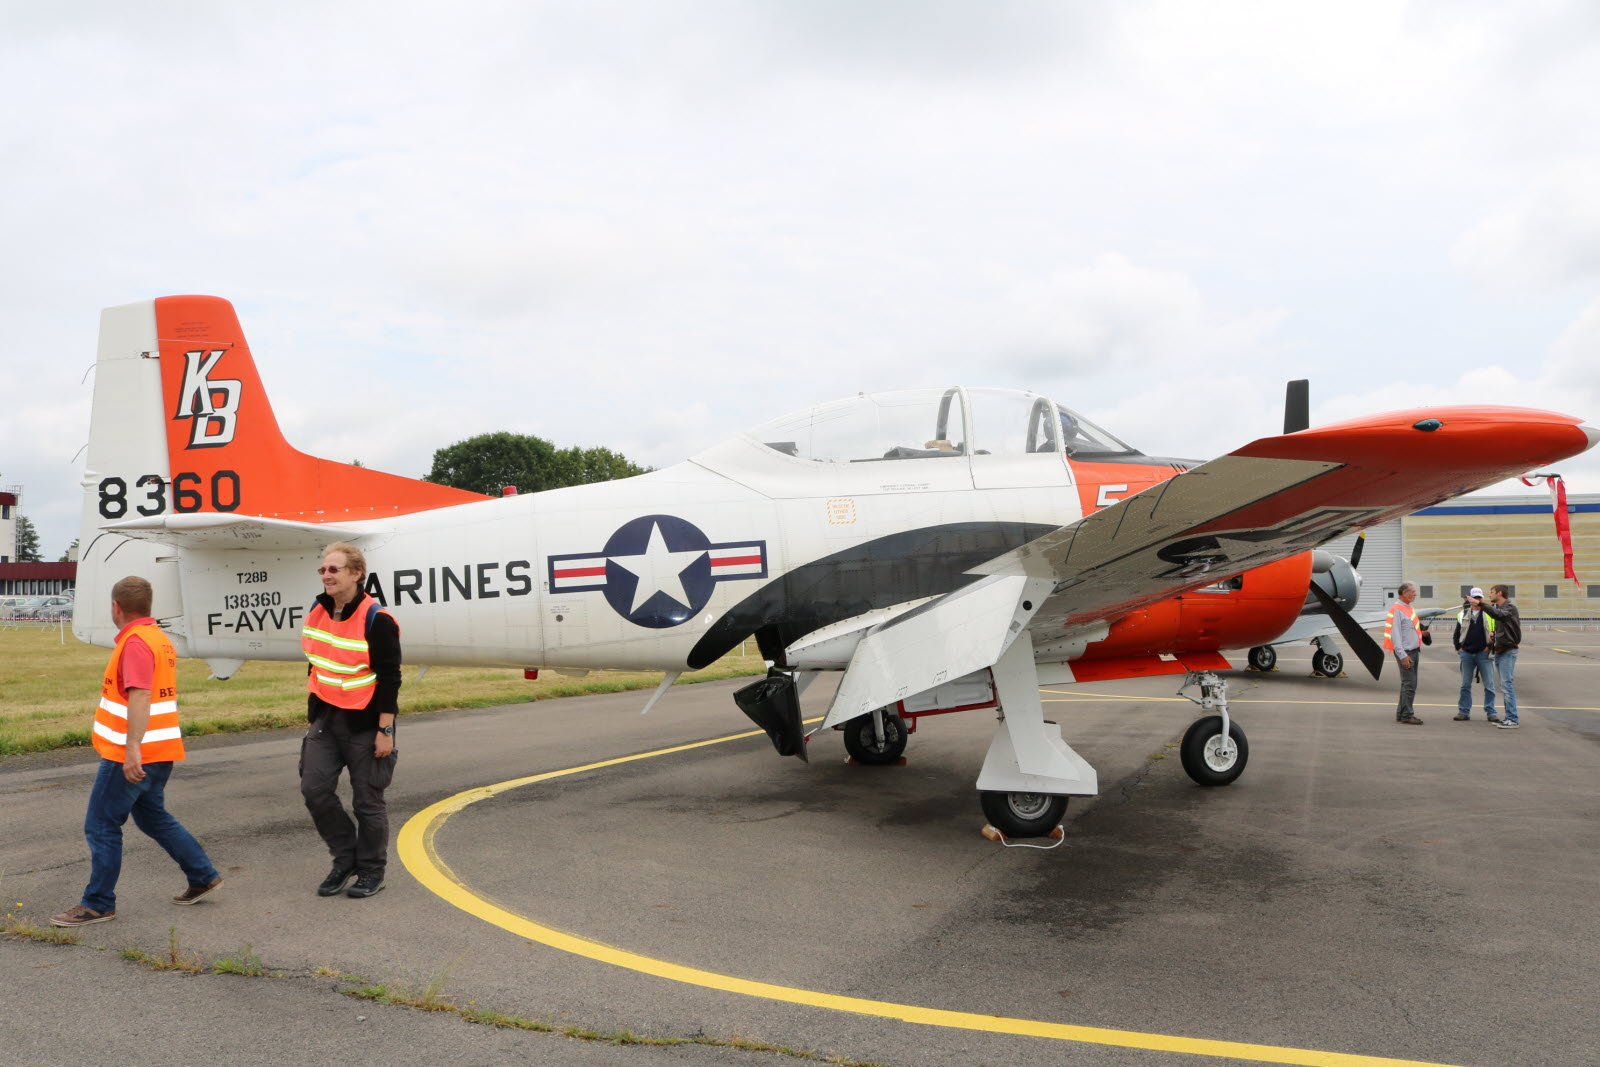Aeronef_militaire: (56, 275, 1600, 874)
